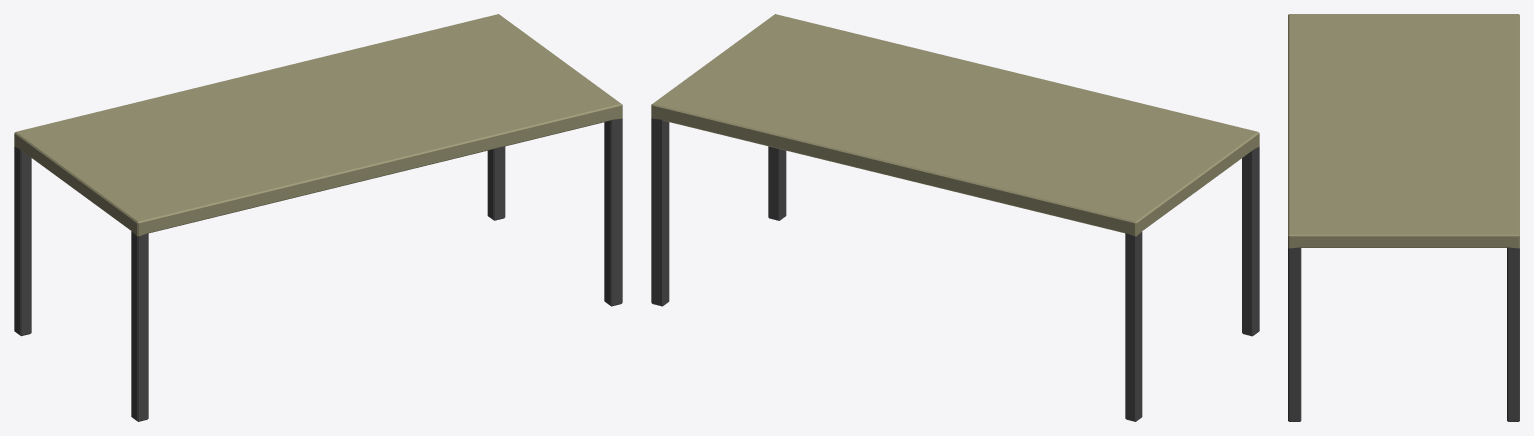
The model's file is desk.fbx.
3 renders of one model, left to right at view 1: azimuth 30°, elevation 25°; view 2: azimuth 150°, elevation 25°; view 3: azimuth 270°, elevation 25°, orthographic. The views are drawn at different scales.
Parts seen in each view (by area): view 1: Top, Legs; view 2: Top, Legs; view 3: Top, Legs.
Boxes of the visible parts, <box> form: Top: <box>14,14,622,236</box>; Legs: <box>14,118,622,421</box>; Top: <box>651,14,1259,236</box>; Legs: <box>651,118,1259,421</box>; Top: <box>1288,14,1519,248</box>; Legs: <box>1288,247,1519,421</box>.
Size of the model in its own units: 225 by 88.86 by 99.6.
